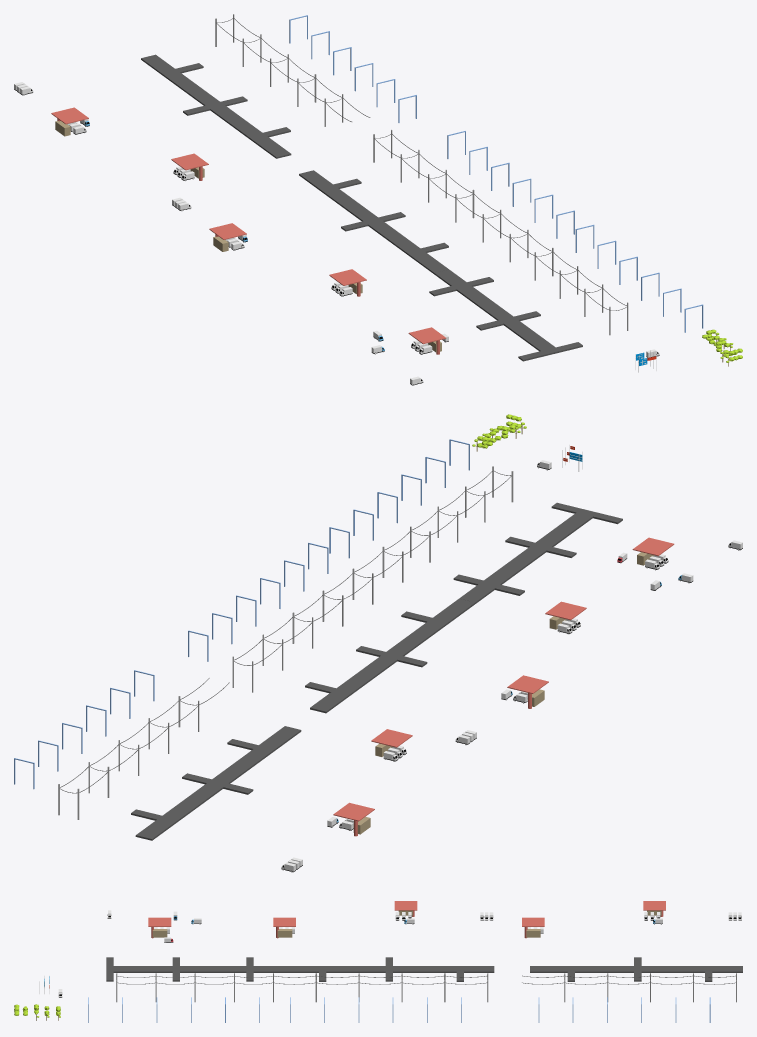
File: thonk_spin_03_fix.fbx
3 renders of one model, top to bottom at view 1: azimuth 30°, elevation 25°; view 2: azimuth 150°, elevation 25°; view 3: azimuth 270°, elevation 25°, orthographic. The views are drawn at different scales.
Visible parts, largest first — view 1: Cube.079, Cube.086, Cube.089, Cube.078, Cube.077, Cube.076, Cube.093, Cube.092, Cube.095, Cube.094, Cube.091, Cylinder.165; view 2: Cube.079, Cube.086, Cube.089, Cube.091, Cube.094, Cube.078, Cube.095, Cube.076, Cube.077, Cube.092, Cube.093; view 3: Cube.086, Cube.079, Cube.089, BezierCurve.006, BezierCurve.009, Cube.094, Cube.091, Cube.095, Cube.093, Cube.092, BezierCurve.011, Cylinder.165 (+2 smaller).
Part boxes in pixels (x1=…): Cube.079: x1=141, y1=54, x2=291, y2=158; Cube.086: x1=299, y1=170, x2=448, y2=273; Cube.089: x1=434, y1=269, x2=556, y2=351; Cube.078: x1=575, y1=224, x2=703, y2=332; Cube.077: x1=447, y1=131, x2=574, y2=238; Cube.076: x1=289, y1=15, x2=416, y2=122; Cube.093: x1=209, y1=223, x2=246, y2=251; Cube.092: x1=51, y1=107, x2=88, y2=136; Cube.095: x1=329, y1=269, x2=366, y2=296; Cube.094: x1=408, y1=327, x2=446, y2=354; Cube.091: x1=171, y1=153, x2=208, y2=180; Cylinder.165: x1=373, y1=129, x2=501, y2=242; Cube.079: x1=135, y1=726, x2=301, y2=840; Cube.086: x1=310, y1=598, x2=475, y2=713; Cube.089: x1=459, y1=512, x2=592, y2=603; Cube.091: x1=371, y1=729, x2=412, y2=761; Cube.094: x1=632, y1=537, x2=674, y2=570; Cube.078: x1=329, y1=439, x2=469, y2=558; Cube.095: x1=545, y1=601, x2=586, y2=634; Cube.076: x1=14, y1=670, x2=154, y2=789; Cube.077: x1=188, y1=542, x2=328, y2=661; Cube.092: x1=333, y1=802, x2=374, y2=836; Cube.093: x1=507, y1=675, x2=548, y2=708; Cube.086: x1=281, y1=966, x2=494, y2=972; Cube.079: x1=530, y1=966, x2=742, y2=972; Cube.089: x1=112, y1=966, x2=281, y2=972; BezierCurve.006: x1=522, y1=975, x2=735, y2=984; BezierCurve.009: x1=274, y1=975, x2=486, y2=984; Cube.094: x1=148, y1=917, x2=171, y2=938; Cube.091: x1=522, y1=917, x2=544, y2=938; Cube.095: x1=273, y1=917, x2=295, y2=938; Cube.093: x1=394, y1=901, x2=417, y2=920; Cube.092: x1=643, y1=901, x2=665, y2=920; BezierCurve.011: x1=117, y1=976, x2=272, y2=984; Cylinder.165: x1=315, y1=973, x2=488, y2=1002.
Bounding box in the file's own units: 14567 × 1373 × 41069.
